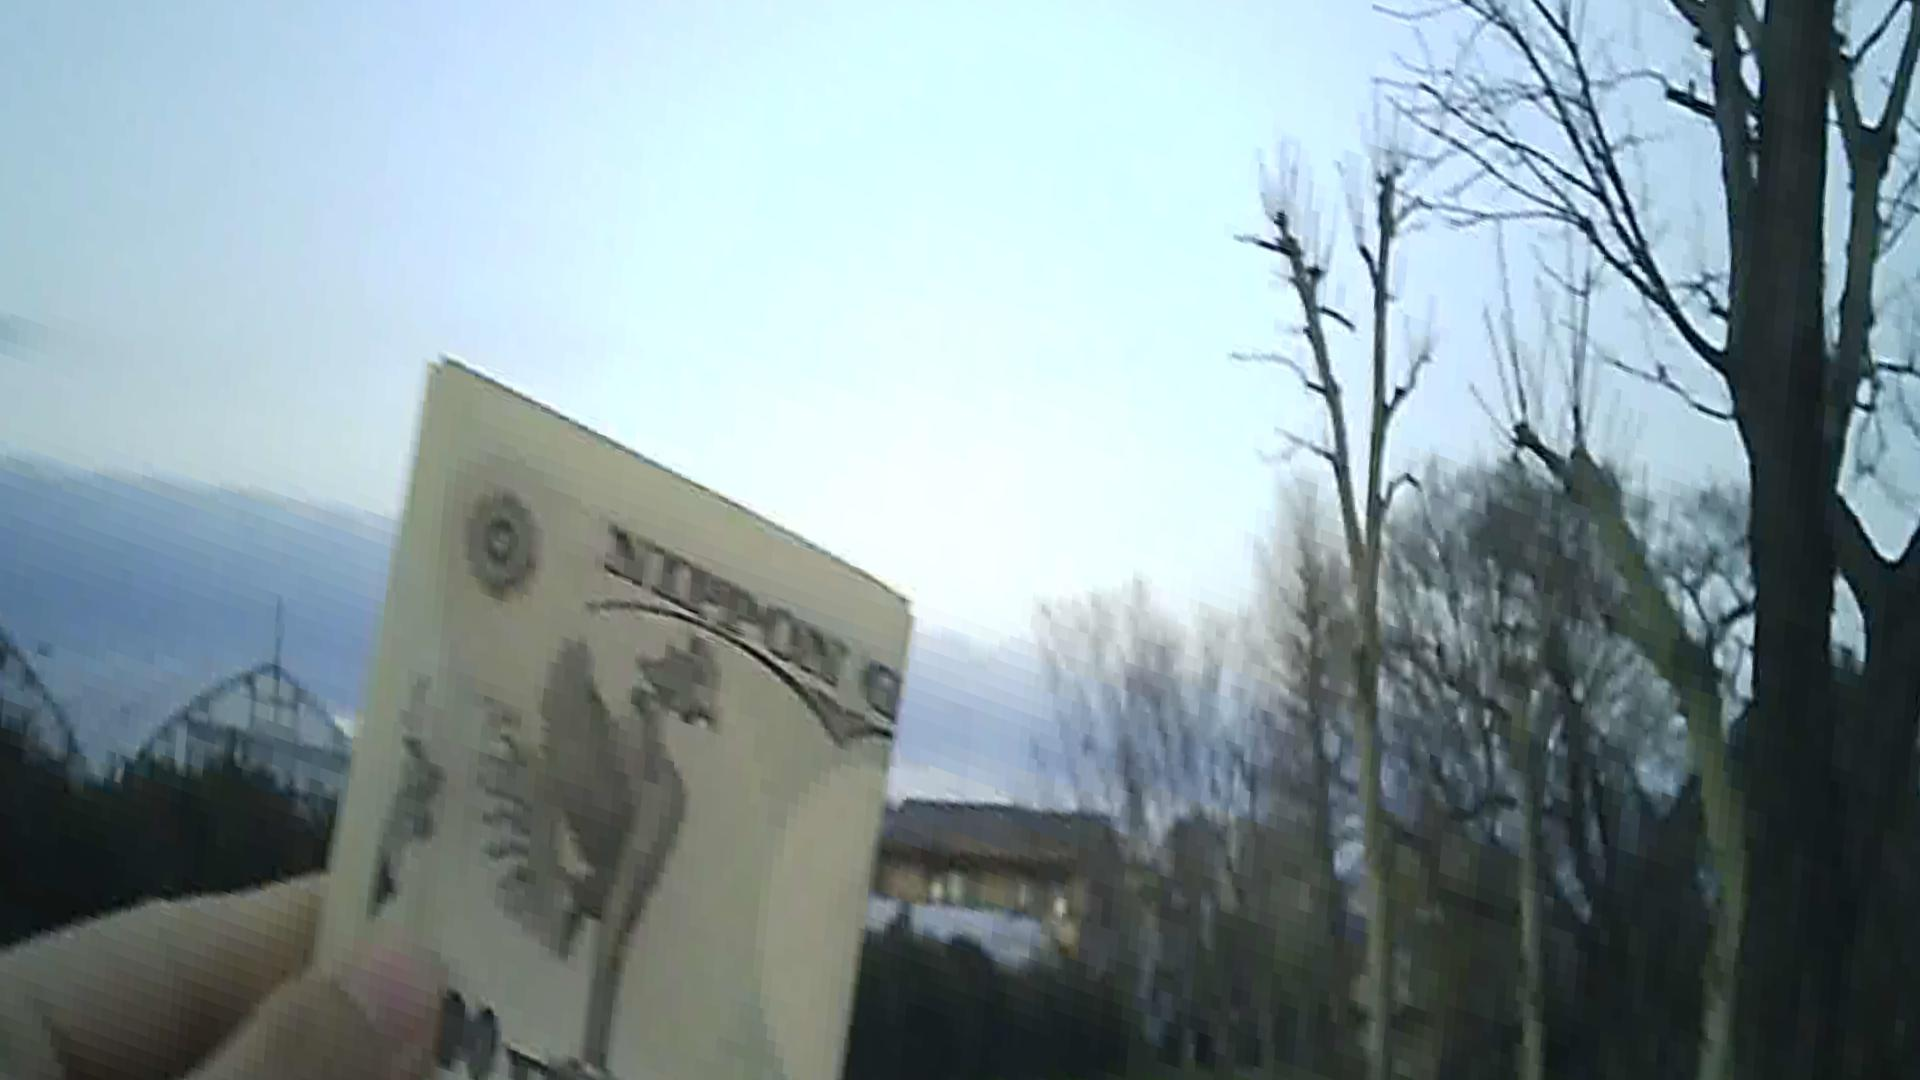10,000 Yen: (323, 349, 924, 1079)
